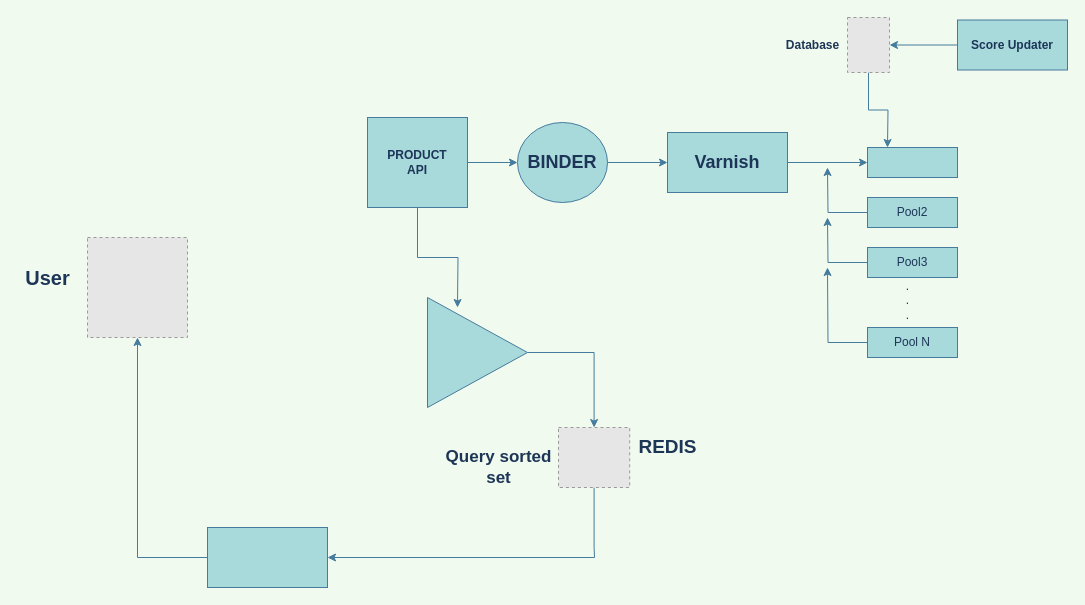
This 1085x605 diagram has some shape labels left out. Grey dashed boxes stand in for pictures. The shapes that lost their labels are listed below. From the top down, each one's centre as x and y in pixels, then its label:
At point (912, 162): "Pool1".
At point (477, 352): "SCHEDULED API DELTA".
At point (267, 557): "Web Sockets".
